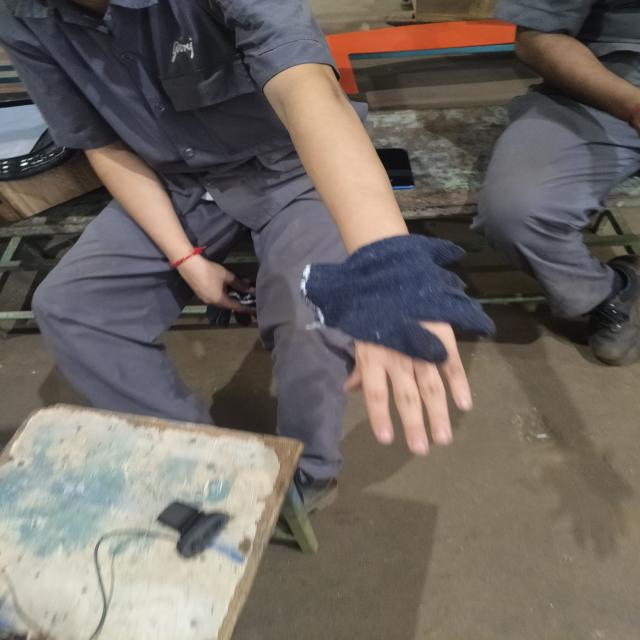Gloves-Detection: (290, 234, 496, 353)
